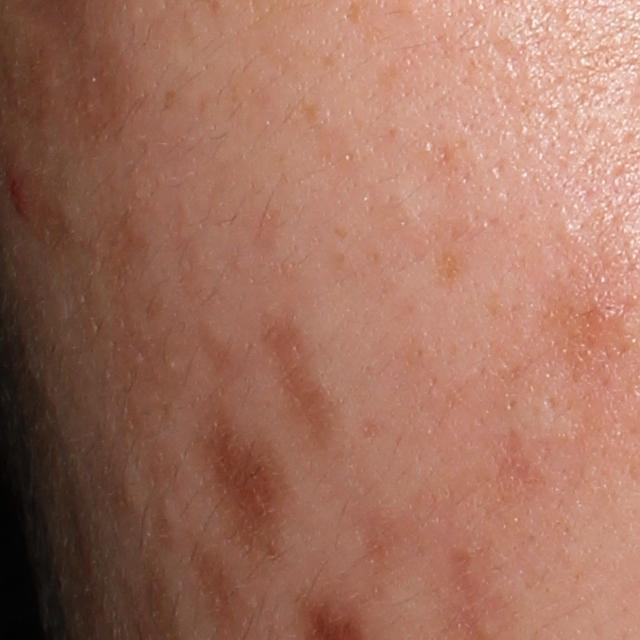papule: (3, 169, 39, 226)
